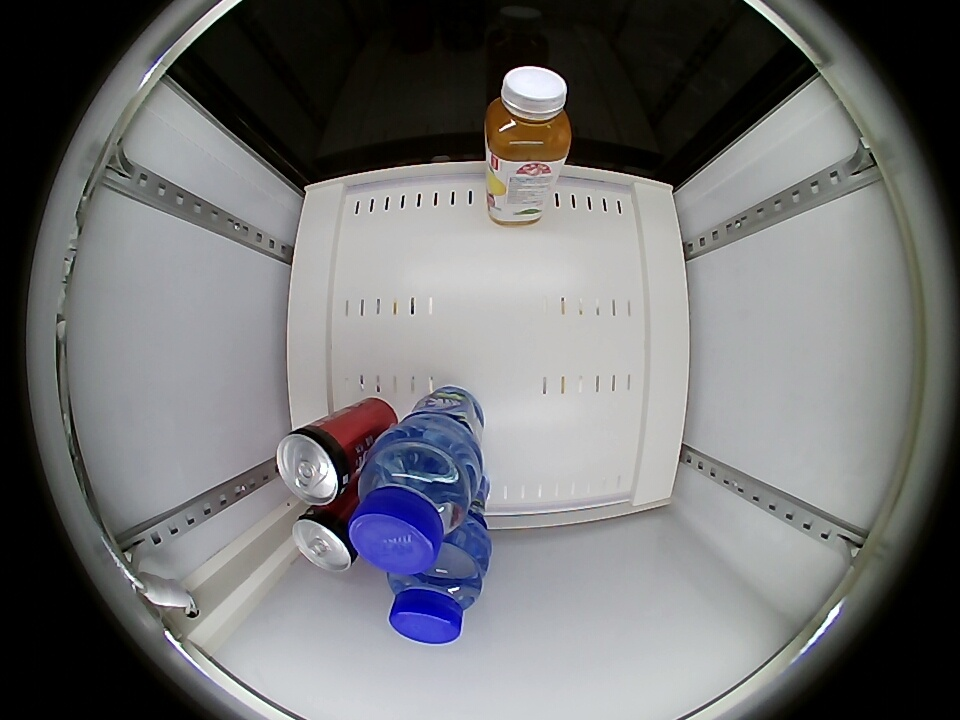chapai: (484, 66, 572, 165)
lingdukele: (276, 423, 358, 506), (292, 506, 361, 573)
maidong: (349, 442, 472, 575), (385, 541, 486, 645)
